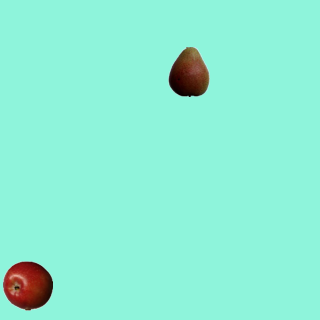Apple Braeburn: (2, 260, 52, 310)
Pear Forelle: (163, 46, 213, 96)
